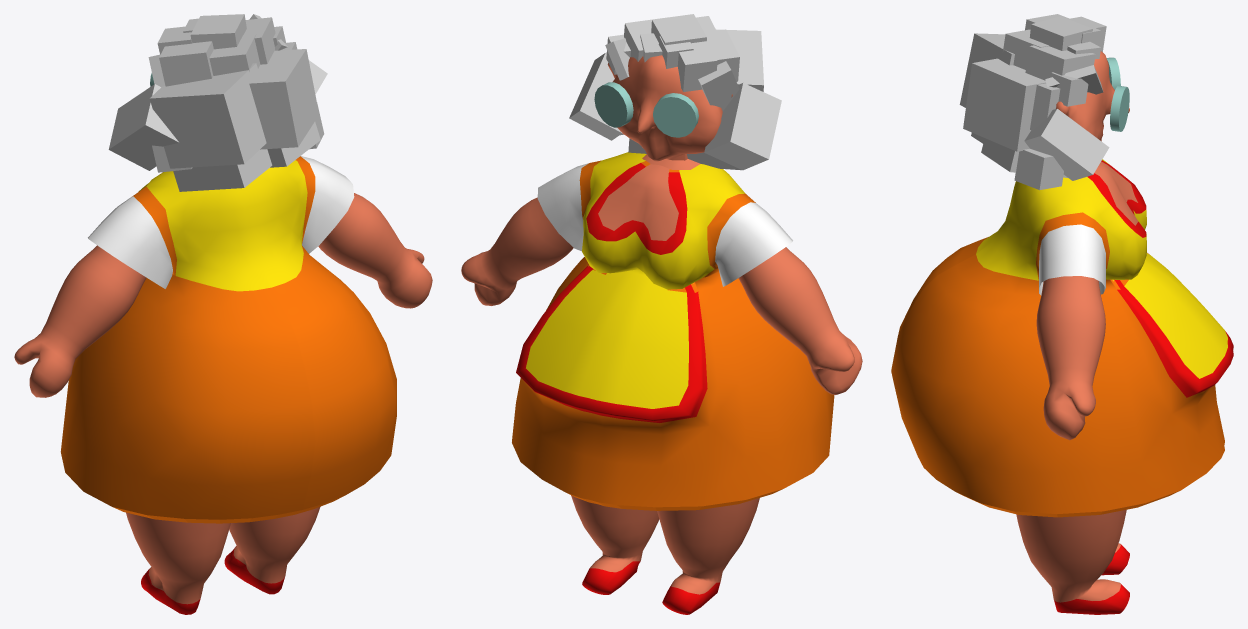
Rendered from baba.FBX.
3 renders of one model, left to right at view 1: azimuth 30°, elevation 25°; view 2: azimuth 150°, elevation 25°; view 3: azimuth 270°, elevation 25°, orthographic. The views are drawn at different scales.
Visible parts, largest first — view 1: Cylinder003, Box011, Box012, Box014, Box020, Box007, Box008, Box010, Box009, Box019, Box003; view 2: Cylinder003, Box014, Box017, Cylinder001, Box011, Box003, Cylinder002, Box008, Box004, Box007, Box009, Box006 (+1 smaller); view 3: Cylinder003, Box012, Box017, Box009, Box018, Box008, Box011, Box013, Box010, Box016, Cylinder002, Box019 (+1 smaller).
Boxes of the visible parts, left/top/right/bottom form: Cylinder003: left=14, top=156, right=432, bottom=614; Box011: left=149, top=63, right=266, bottom=168; Box012: left=249, top=49, right=319, bottom=149; Box014: left=108, top=84, right=179, bottom=170; Box020: left=173, top=149, right=272, bottom=191; Box007: left=159, top=41, right=213, bottom=86; Box008: left=190, top=14, right=246, bottom=49; Box010: left=209, top=34, right=260, bottom=75; Box009: left=243, top=17, right=275, bottom=64; Box019: left=267, top=122, right=320, bottom=167; Box003: left=157, top=26, right=192, bottom=54; Cylinder003: left=461, top=55, right=862, bottom=614; Box014: left=704, top=83, right=781, bottom=170; Box017: left=569, top=53, right=622, bottom=140; Cylinder001: left=653, top=93, right=698, bottom=137; Box011: left=716, top=29, right=763, bottom=91; Box003: left=677, top=41, right=717, bottom=91; Cylinder002: left=594, top=82, right=633, bottom=127; Box008: left=651, top=14, right=706, bottom=45; Box004: left=698, top=61, right=739, bottom=111; Box007: left=704, top=29, right=739, bottom=81; Box009: left=624, top=18, right=662, bottom=61; Box006: left=605, top=38, right=629, bottom=80; Cylinder003: left=891, top=51, right=1233, bottom=614; Box012: left=963, top=58, right=1045, bottom=151; Box017: left=1024, top=108, right=1109, bottom=180; Box009: left=1025, top=45, right=1095, bottom=80; Box018: left=1014, top=149, right=1063, bottom=190; Box008: left=1029, top=16, right=1092, bottom=50; Box011: left=959, top=33, right=1014, bottom=107; Box013: left=1030, top=83, right=1060, bottom=130; Box010: left=1003, top=29, right=1048, bottom=69; Box016: left=1050, top=72, right=1088, bottom=106; Cylinder002: left=1110, top=86, right=1129, bottom=131; Box019: left=981, top=138, right=1067, bottom=177.
Bounding box in the file's own units: 73.41 × 101 × 55.55.
